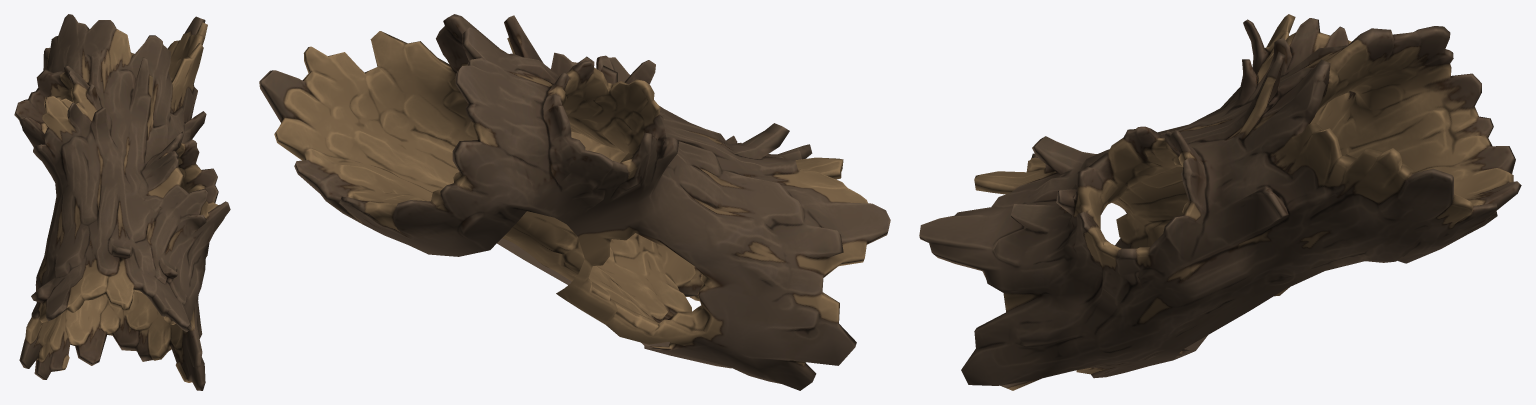
File: logv2 low.fbx
3 views of the same model, side by side, from view 1: azimuth 30°, elevation 25°; view 2: azimuth 150°, elevation 25°; view 3: azimuth 270°, elevation 25° (orthographic). The views are drawn at different scales.
Parts seen in each view (by area): view 1: Log_low; view 2: Log_low; view 3: Log_low.
Part boxes in pixels (box(x1,y1,x2,y2)): Log_low: box(14, 14, 230, 390); Log_low: box(259, 14, 890, 390); Log_low: box(919, 14, 1521, 390).
Size of what is drawn, in the model's own units: 57.53 by 50.34 by 69.18.
